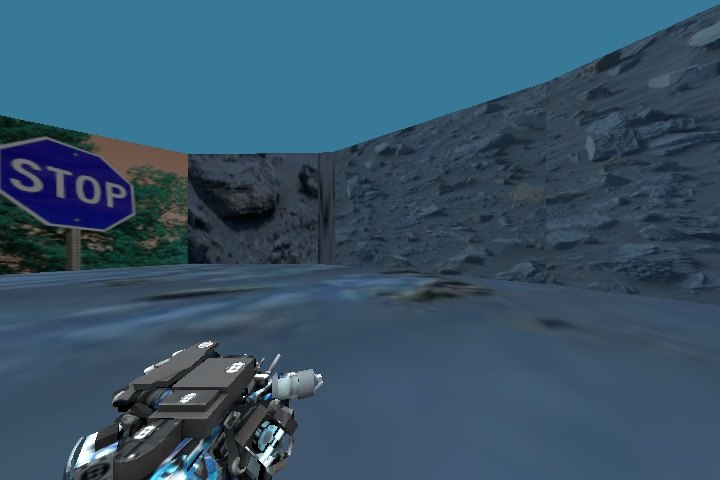stop_sign: (1, 131, 137, 244)
